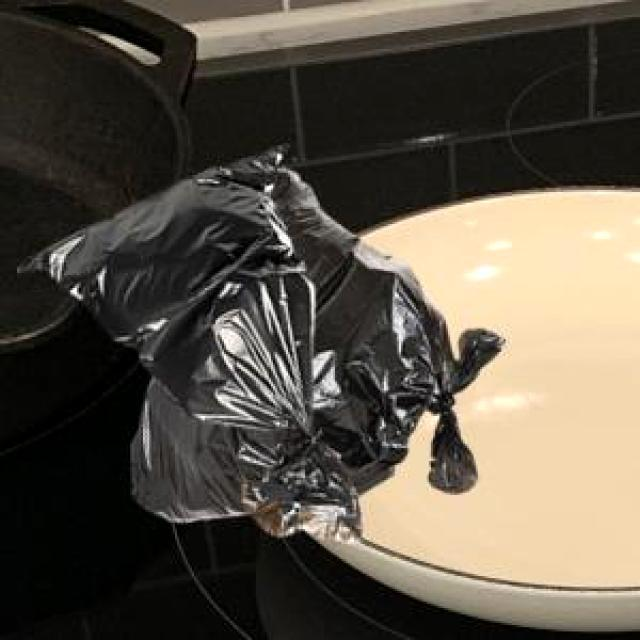Garbage_Bag: (16, 142, 357, 541), (129, 163, 500, 520)
